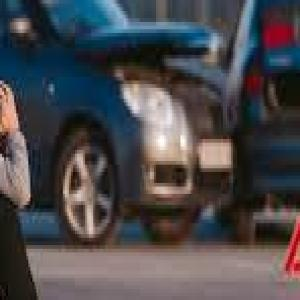superficial: (0, 0, 300, 249)
